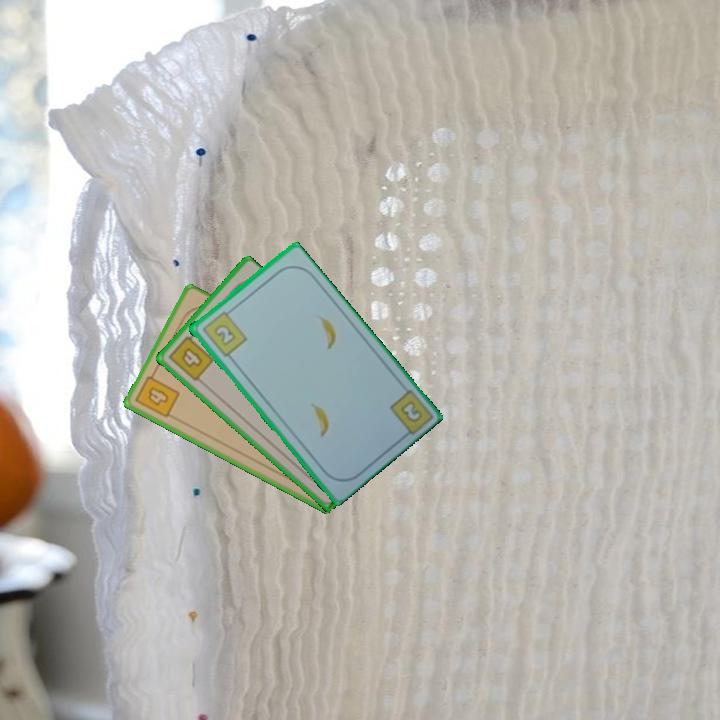2b: (198, 306, 249, 359), (397, 397, 425, 425)
4b: (165, 329, 217, 384), (132, 367, 183, 421)
